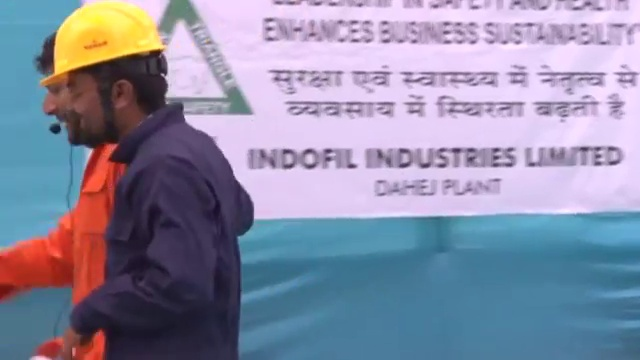helmet: (38, 3, 167, 88)
helmet_off: (33, 32, 85, 150)
helmet_on: (38, 2, 176, 143)
person: (34, 1, 260, 360), (1, 22, 119, 360)
